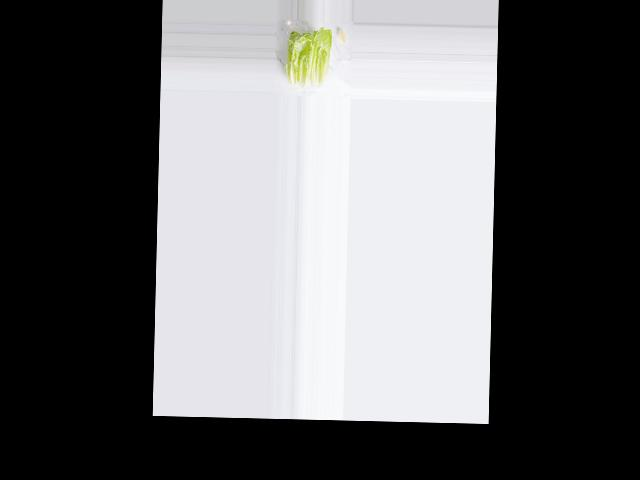lettuce: (283, 25, 334, 88)
